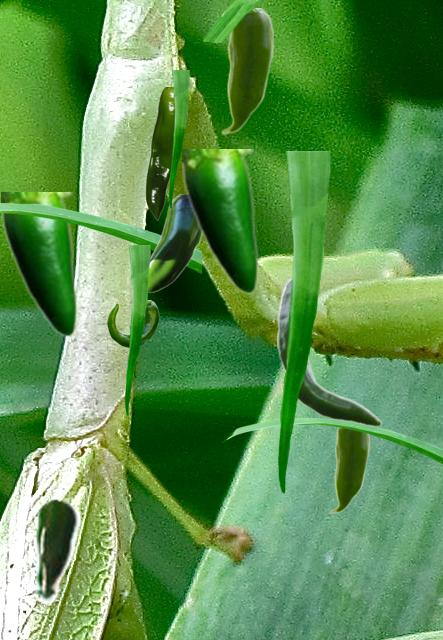green_chili: (277, 278, 381, 425), (1, 192, 77, 337), (182, 149, 258, 294), (220, 8, 272, 134), (145, 87, 186, 219), (31, 498, 81, 604), (148, 194, 201, 292), (329, 428, 368, 513), (107, 300, 158, 346)
